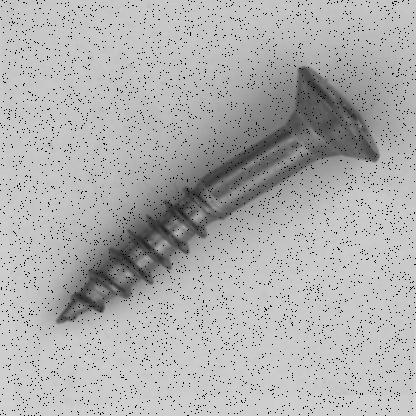metal: (57, 65, 379, 322)
